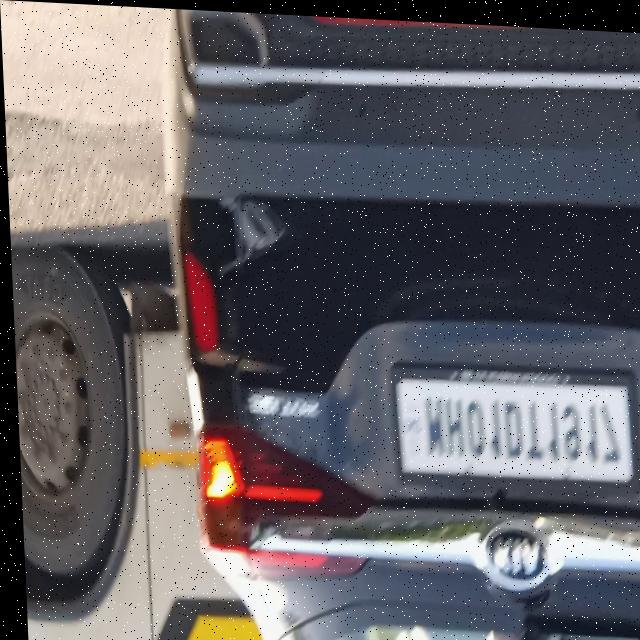plate: (387, 359, 637, 489)
